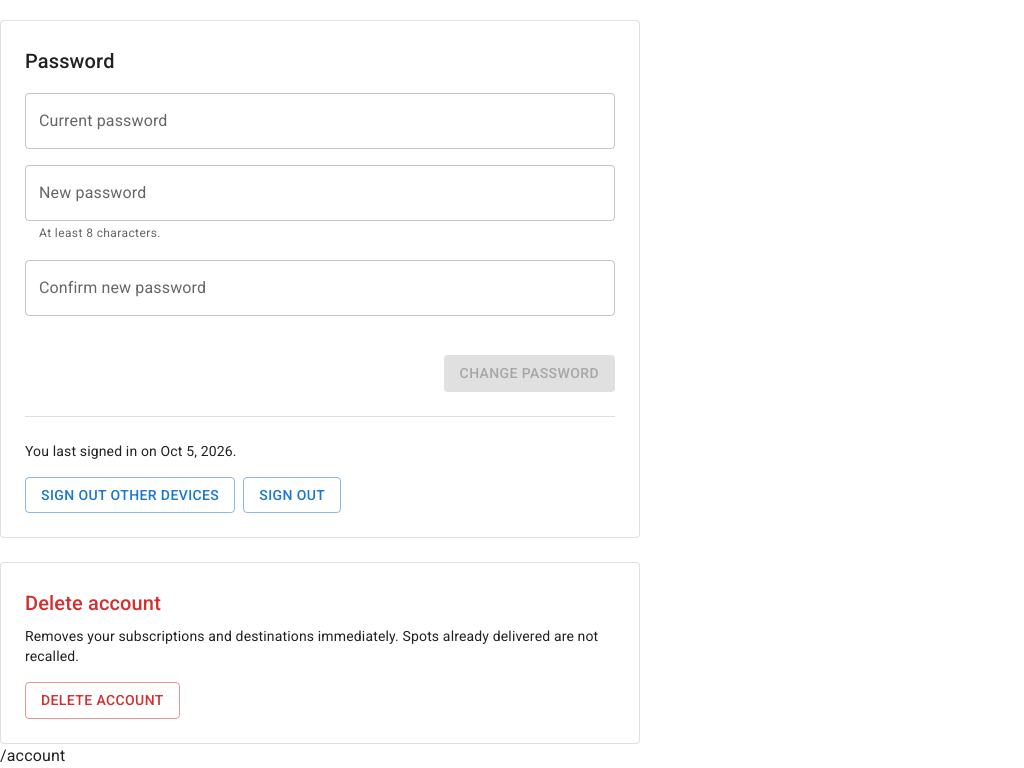
Test: AccountPage delete › can be cancelled
The width and height of the screenshot is (1024, 768).
(page scrolled)
Click the button "Delete account" at (102, 700), box top-left (25, 682), bottom-right (180, 718)
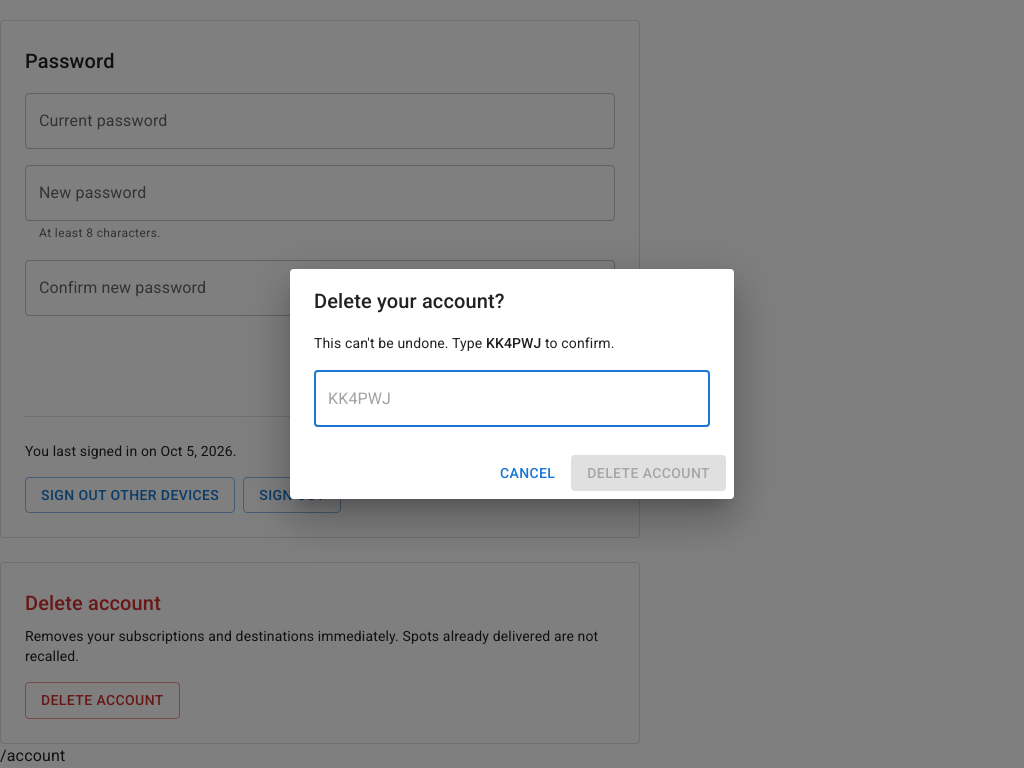
Click the button "Cancel" at (528, 473), box top-left (492, 455), bottom-right (563, 491)
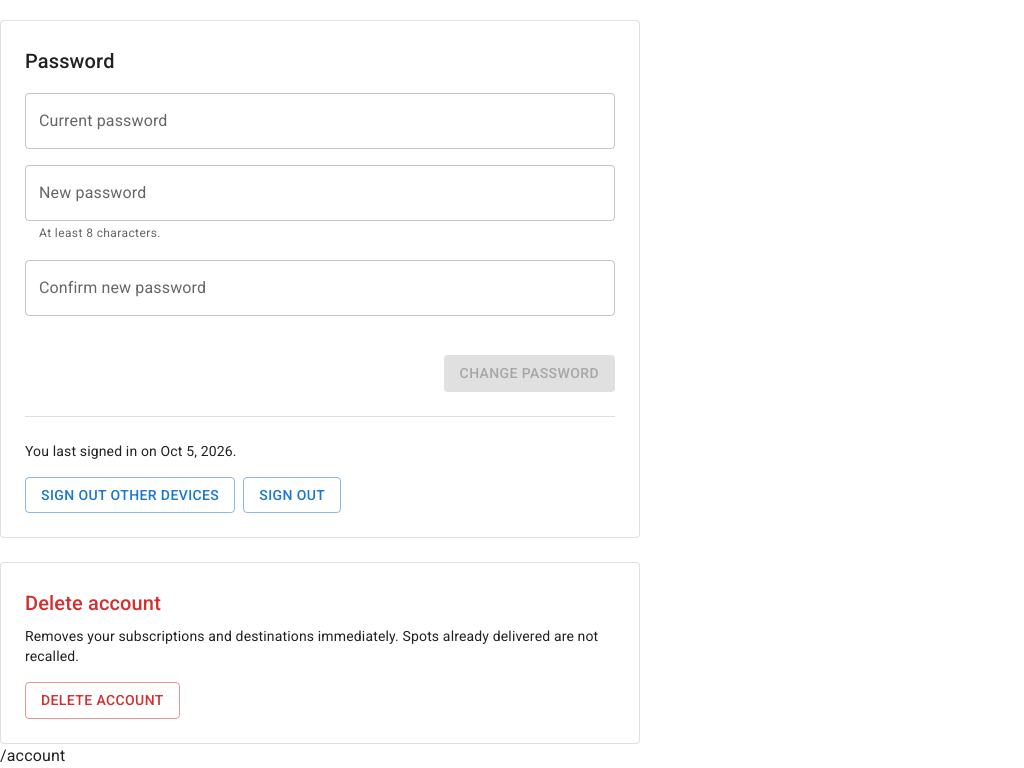
Check: the dialog is gone
